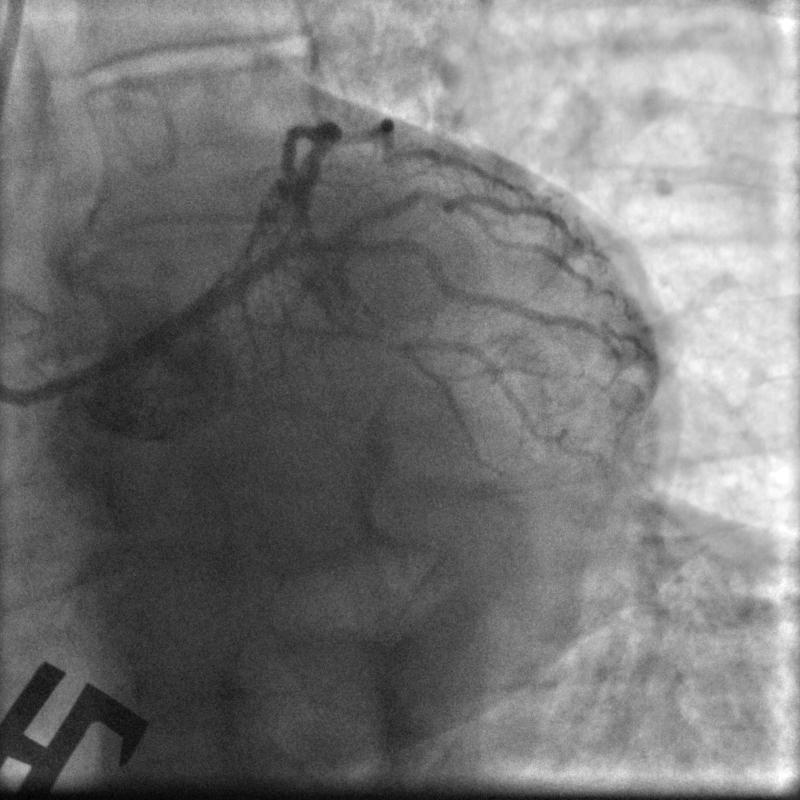Stenosis: (407, 182, 453, 213)
